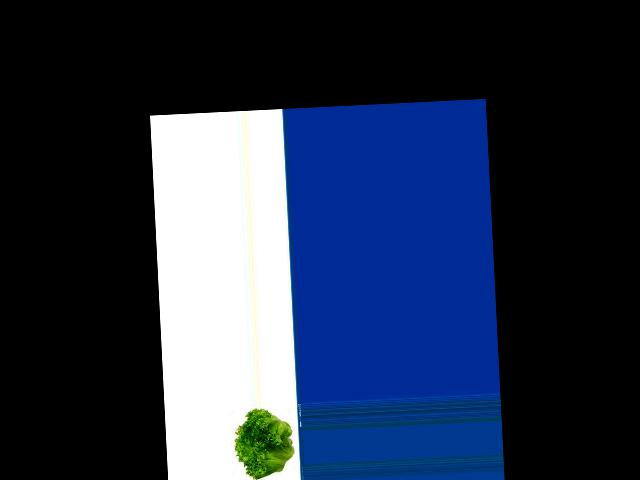lettuce: (230, 406, 299, 479)
